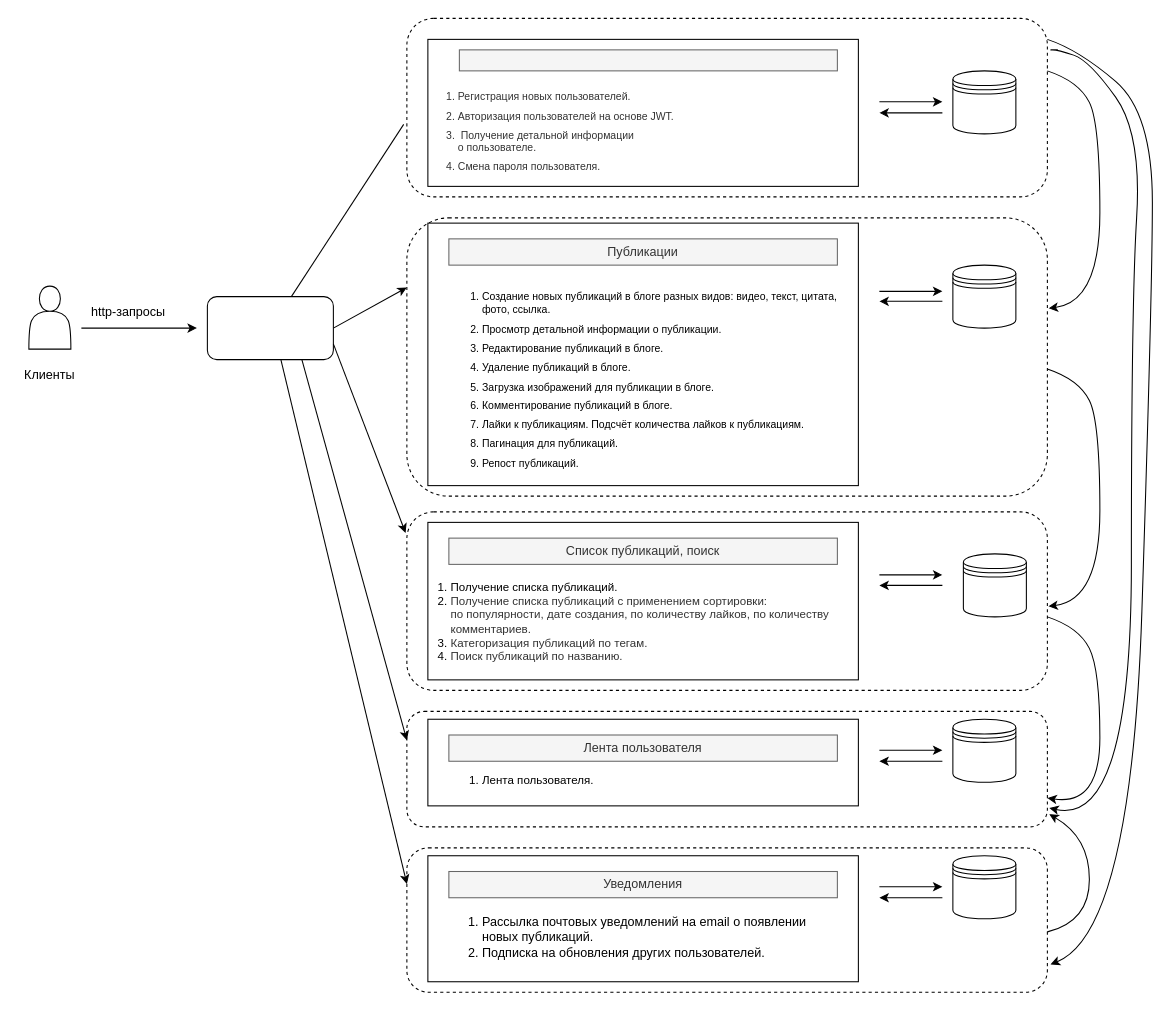
Image size: 1171x1011. Some labels were removed from this diagram. Each missing label, with the centre of its shape:
API Gateway: (x=269, y=328)
User: (x=647, y=60)
